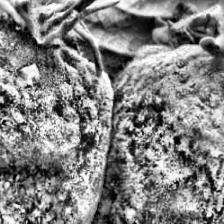Gray Mold: (89, 20, 224, 224), (0, 19, 116, 224)
